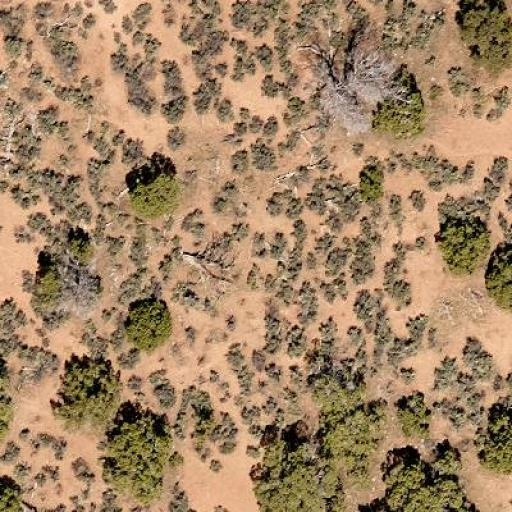tree-top: (314, 37, 392, 124), (251, 434, 337, 512), (99, 412, 172, 492), (53, 352, 124, 428), (459, 0, 512, 74), (379, 453, 447, 508), (434, 212, 491, 273), (316, 408, 380, 462), (370, 86, 432, 140), (124, 166, 184, 220), (122, 294, 176, 351), (254, 184, 305, 230), (308, 366, 361, 410), (479, 408, 512, 475), (394, 390, 439, 439), (30, 258, 70, 307), (358, 157, 386, 214), (483, 256, 512, 305), (431, 443, 462, 477), (66, 230, 96, 262), (0, 482, 22, 512)
